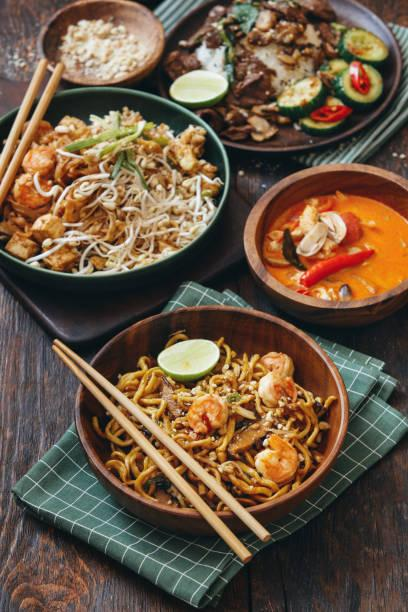Braised Crucian Carp: (74, 309, 345, 535), (0, 86, 227, 291), (153, 0, 398, 155), (243, 162, 404, 322)
